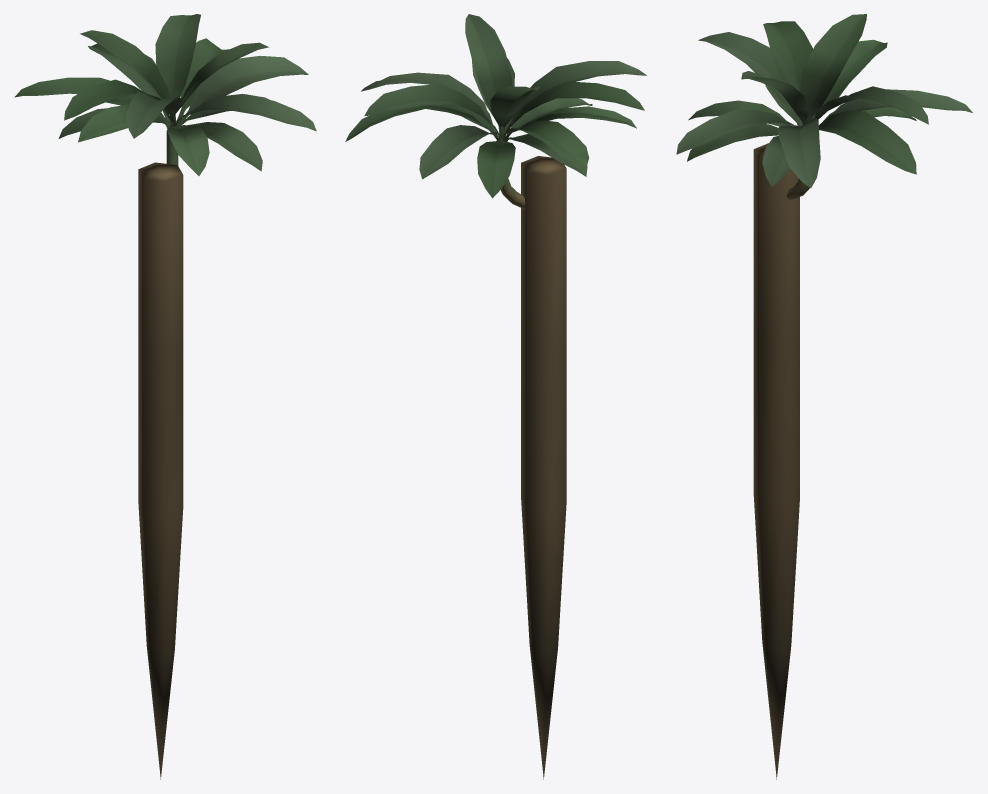
The model's file is plants-trees-palms-palm-tree_v3.glb.
3 renders of one model, left to right at view 1: azimuth 30°, elevation 25°; view 2: azimuth 150°, elevation 25°; view 3: azimuth 270°, elevation 25°, orthographic. The views are drawn at different scales.
Parts seen in each view (by area): view 1: Palm Tree_v3; view 2: Palm Tree_v3; view 3: Palm Tree_v3.
Part boxes in pixels (bbox=[...]): Palm Tree_v3: bbox=[14, 14, 316, 779]; Palm Tree_v3: bbox=[345, 14, 646, 779]; Palm Tree_v3: bbox=[676, 14, 972, 779].
Bounding box in the file's own units: 3.04 × 8 × 2.88.
